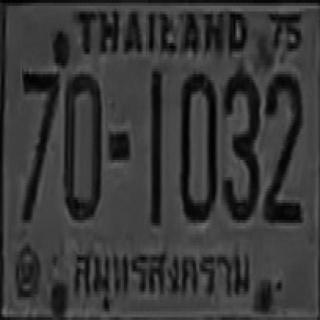N00: (63, 70, 101, 218), (179, 70, 215, 218)
N01: (149, 67, 162, 224)
N02: (263, 70, 301, 218)
N03: (221, 67, 259, 218)
N07: (21, 68, 59, 220)
P59: (70, 241, 255, 314)
